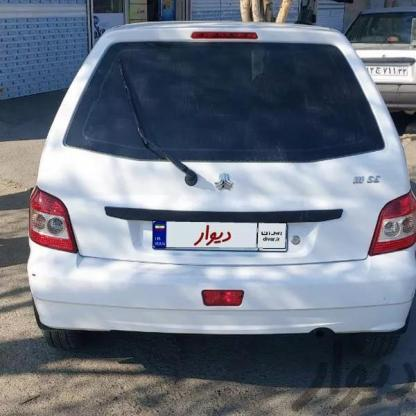Car: (0, 0, 416, 363), (312, 0, 416, 125)
